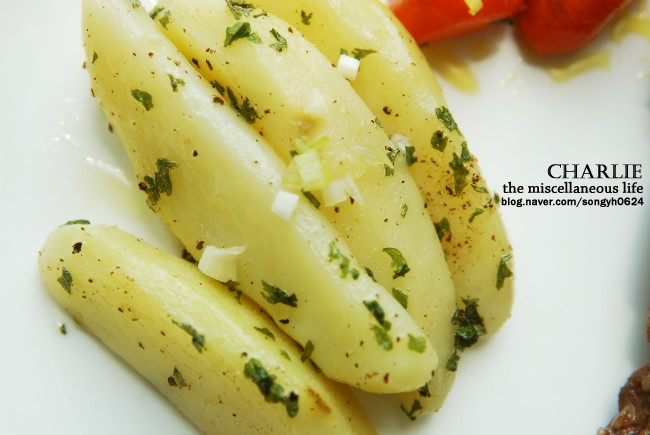boiled potatoes: (97, 53, 431, 421)
